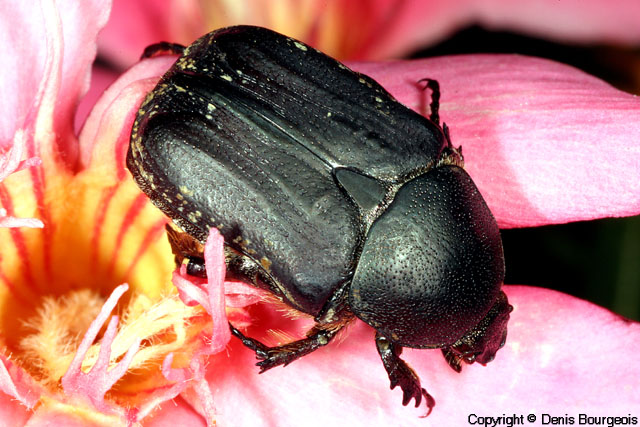Protaetia_oblonga: (127, 10, 518, 422)
